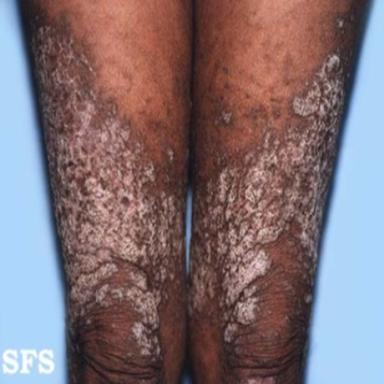Darier_s-Disease: (188, 2, 359, 384), (27, 2, 185, 384)
